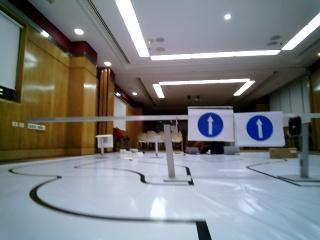straight: (238, 112, 285, 146), (190, 109, 234, 143)
